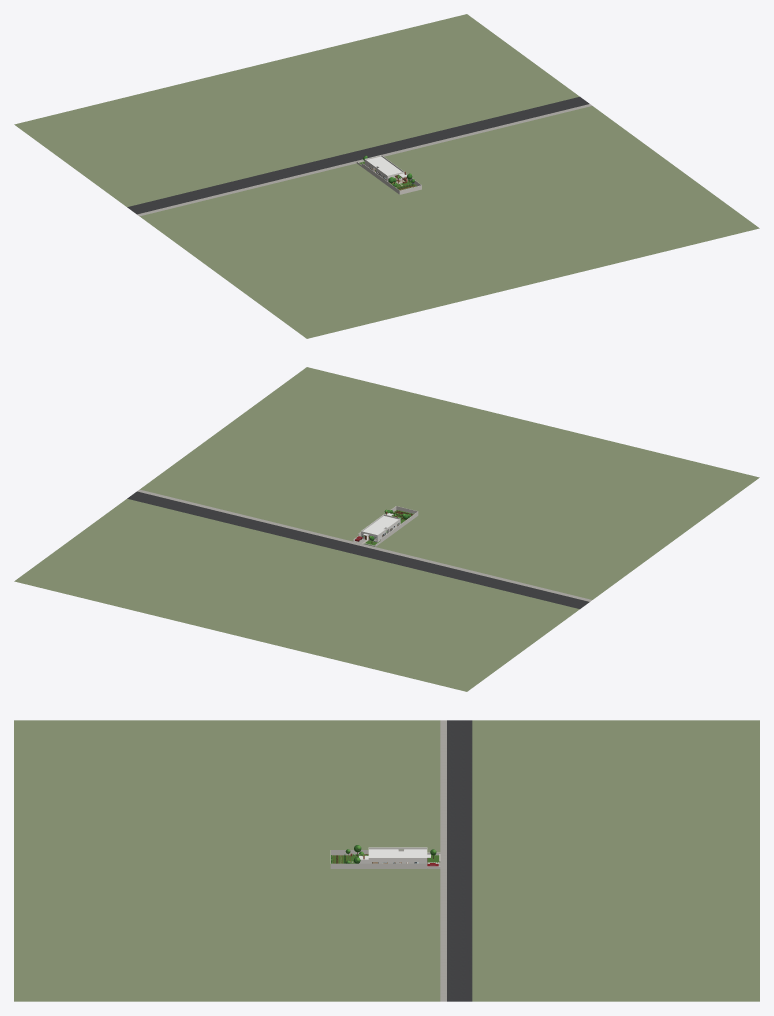
Rendered from casa.glb.
The picture shows the model from 3 angles, top to bottom: view 1: azimuth 30°, elevation 25°; view 2: azimuth 150°, elevation 25°; view 3: azimuth 270°, elevation 25°; orthographic projection. The views are drawn at different scales.
Bounding box in the file's own units: 250 × 4.88 × 280.
Materials: 59 (28 with a texture image).
